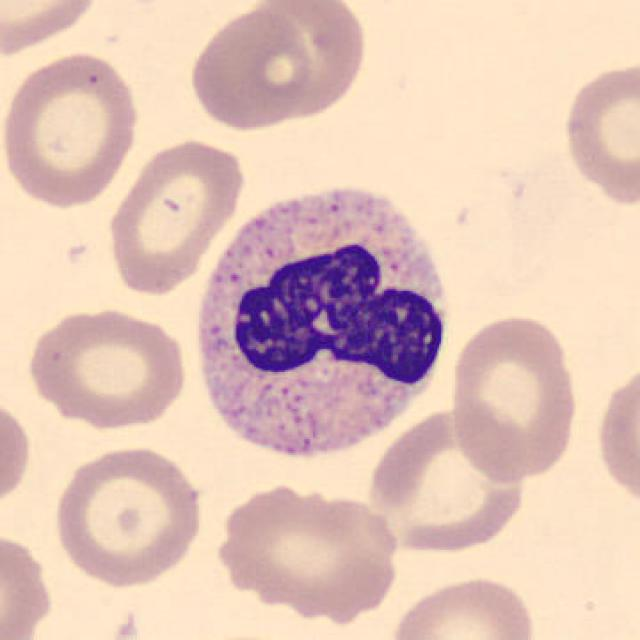Neutrophil: (185, 174, 459, 478)
RBC: (204, 478, 406, 620), (362, 404, 532, 559), (445, 310, 583, 485), (103, 134, 249, 298), (50, 440, 208, 590), (0, 48, 144, 210), (23, 303, 190, 432), (230, 0, 372, 129), (185, 4, 316, 132), (558, 56, 638, 210), (386, 571, 540, 640), (592, 354, 638, 518), (0, 527, 57, 640), (0, 0, 105, 58), (0, 389, 34, 516)
